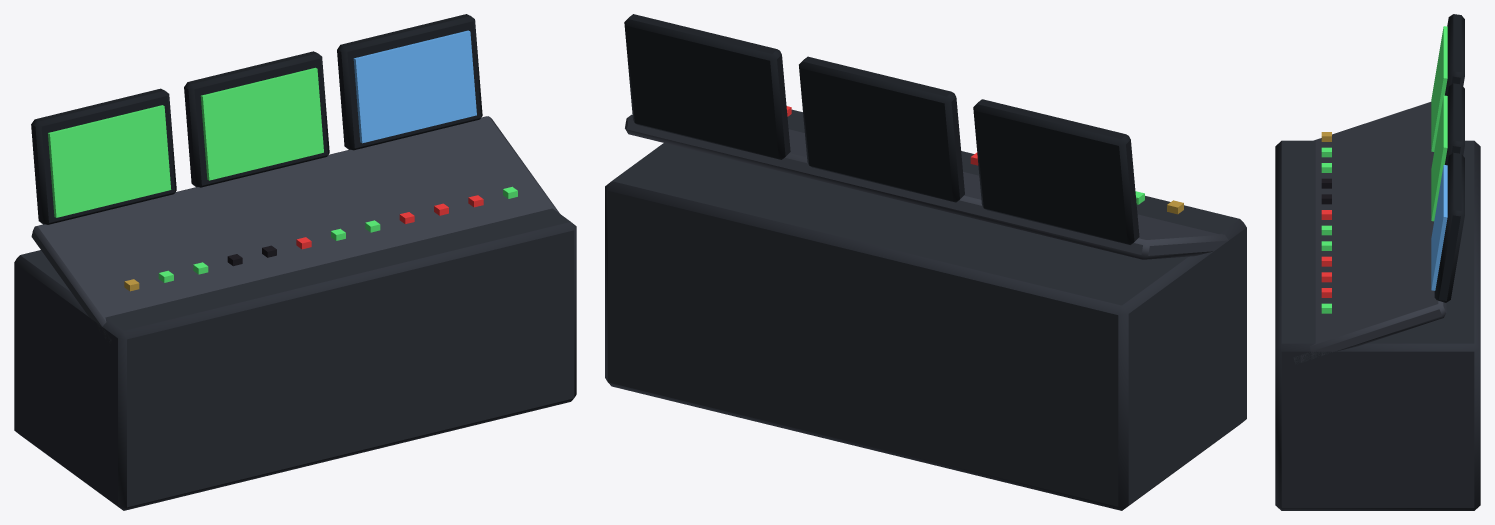
The model's file is control_console.glb.
The picture shows the model from 3 angles, left to right: view 1: azimuth 30°, elevation 25°; view 2: azimuth 150°, elevation 25°; view 3: azimuth 270°, elevation 25°; orthographic projection. The views are drawn at different scales.
Visible parts, largest first — view 1: control_console; view 2: control_console; view 3: control_console.
Boxes of the visible parts, left/top/right/bottom form: control_console: left=14, top=14, right=576, bottom=510; control_console: left=605, top=14, right=1246, bottom=510; control_console: left=1275, top=14, right=1480, bottom=510.
Bounding box in the file's own units: 2.4 × 1.6 × 1.
